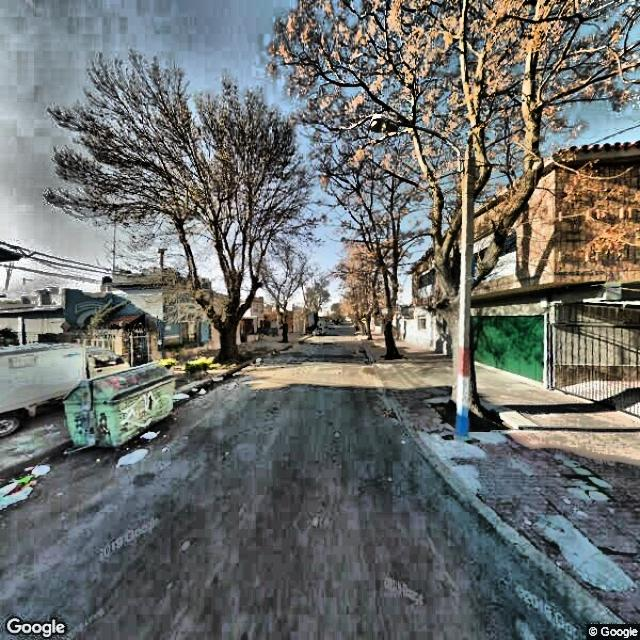garbage: (67, 377, 175, 442), (0, 468, 57, 507), (116, 448, 150, 467), (176, 388, 205, 400)
